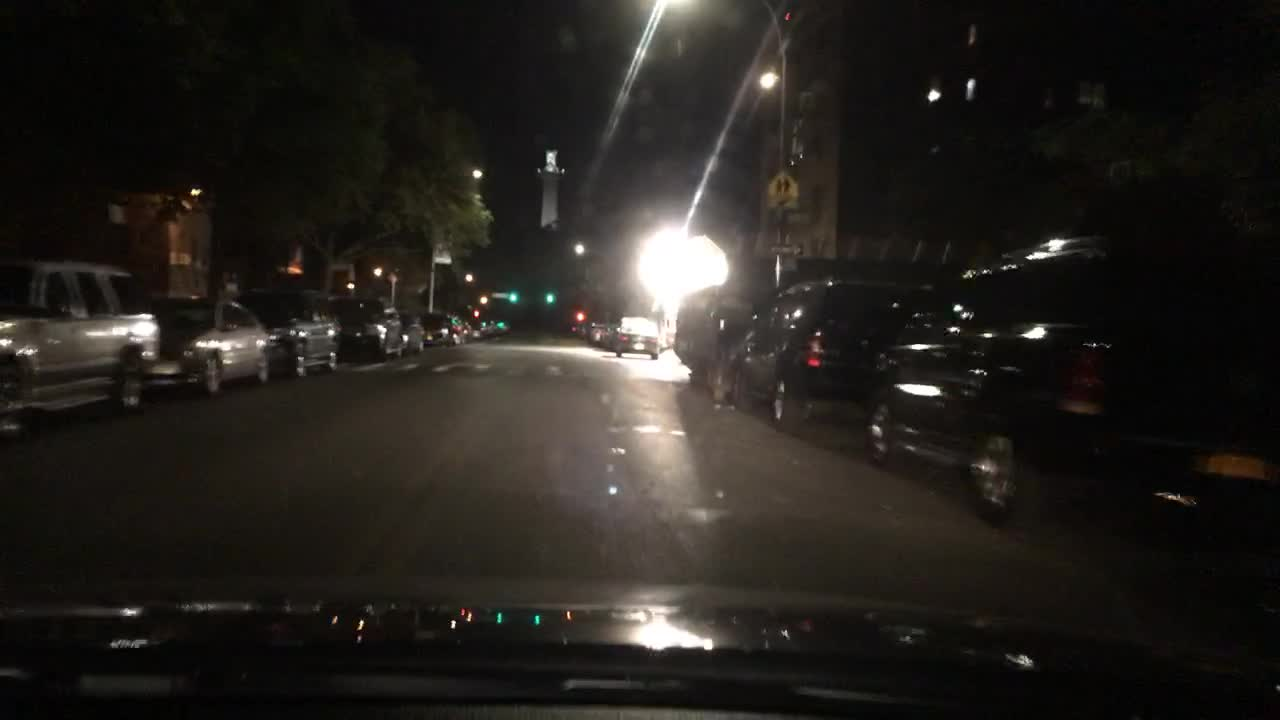car: (864, 235, 1277, 524), (723, 280, 937, 433), (0, 262, 157, 429), (150, 294, 273, 389), (243, 286, 342, 377), (674, 303, 755, 390), (329, 292, 408, 360), (616, 320, 660, 357), (420, 312, 466, 343), (401, 309, 428, 351), (659, 325, 678, 350), (604, 321, 619, 349), (590, 323, 609, 344), (569, 321, 595, 335), (481, 321, 506, 333), (463, 323, 482, 338)
traffic light: (541, 290, 558, 305), (509, 289, 519, 303), (573, 311, 588, 320), (470, 307, 483, 316)
traffic sign: (767, 172, 798, 206), (433, 243, 451, 263), (777, 258, 800, 273), (768, 246, 804, 255)
